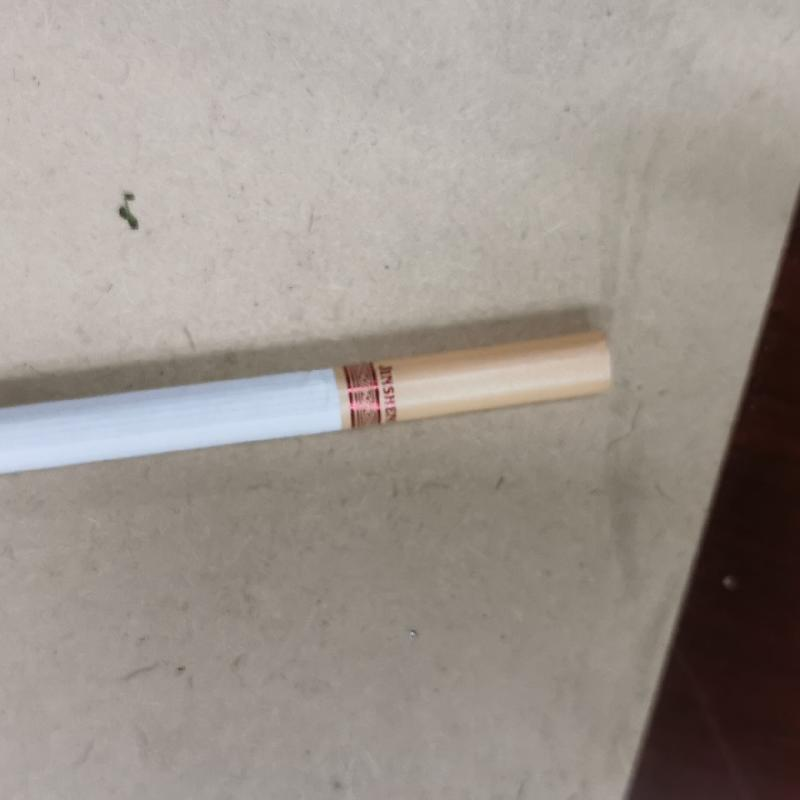cigarette: (4, 329, 613, 473)
